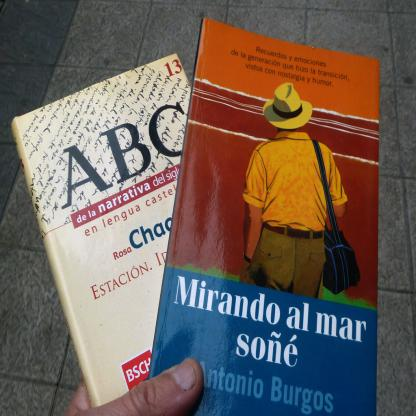book: (146, 15, 382, 416), (5, 50, 192, 410)
